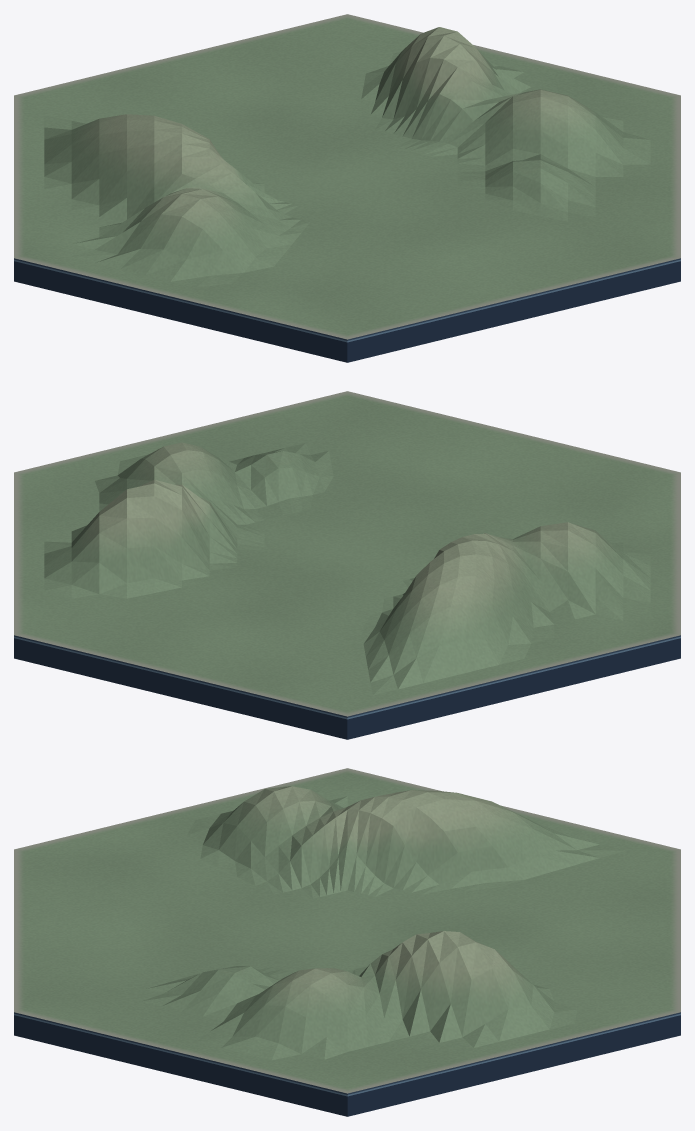
File: campus_tile_hill_v01.glb
3 renders of one model, top to bottom at view 1: azimuth 30°, elevation 25°; view 2: azimuth 150°, elevation 25°; view 3: azimuth 270°, elevation 25°, orthographic.
Parts seen in each view (by area): view 1: campus_tile_hill; view 2: campus_tile_hill; view 3: campus_tile_hill.
Part boxes in pixels (x1=…): campus_tile_hill: x1=14, y1=14, x2=680, y2=362; campus_tile_hill: x1=14, y1=391, x2=680, y2=739; campus_tile_hill: x1=14, y1=768, x2=680, y2=1116.
Size of the model in its own units: 36 by 4.83 by 31.18.
1 material, 1 textured.
